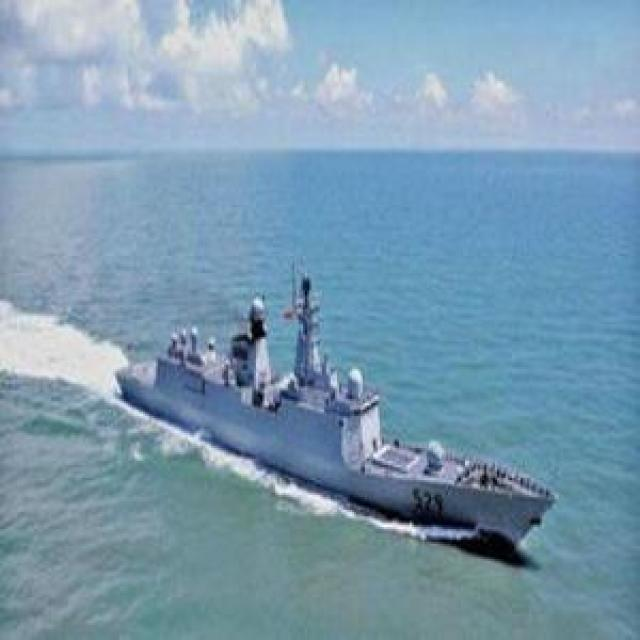navalvessels: (99, 256, 552, 551)
